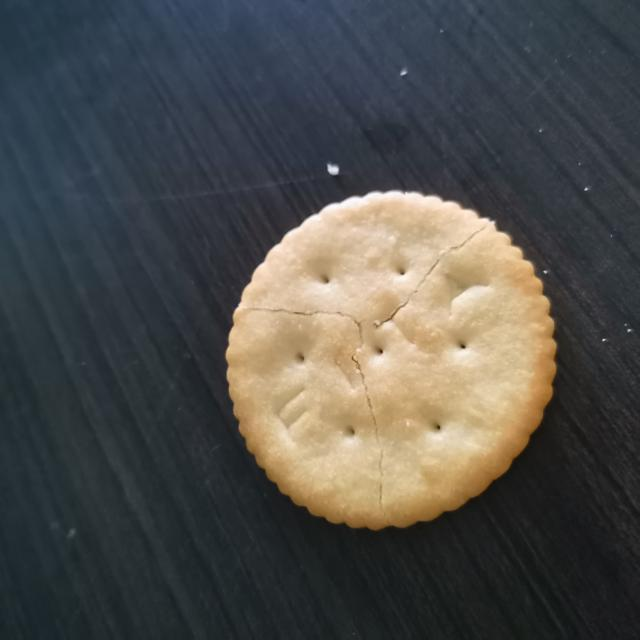Fracture: (241, 215, 496, 520)
